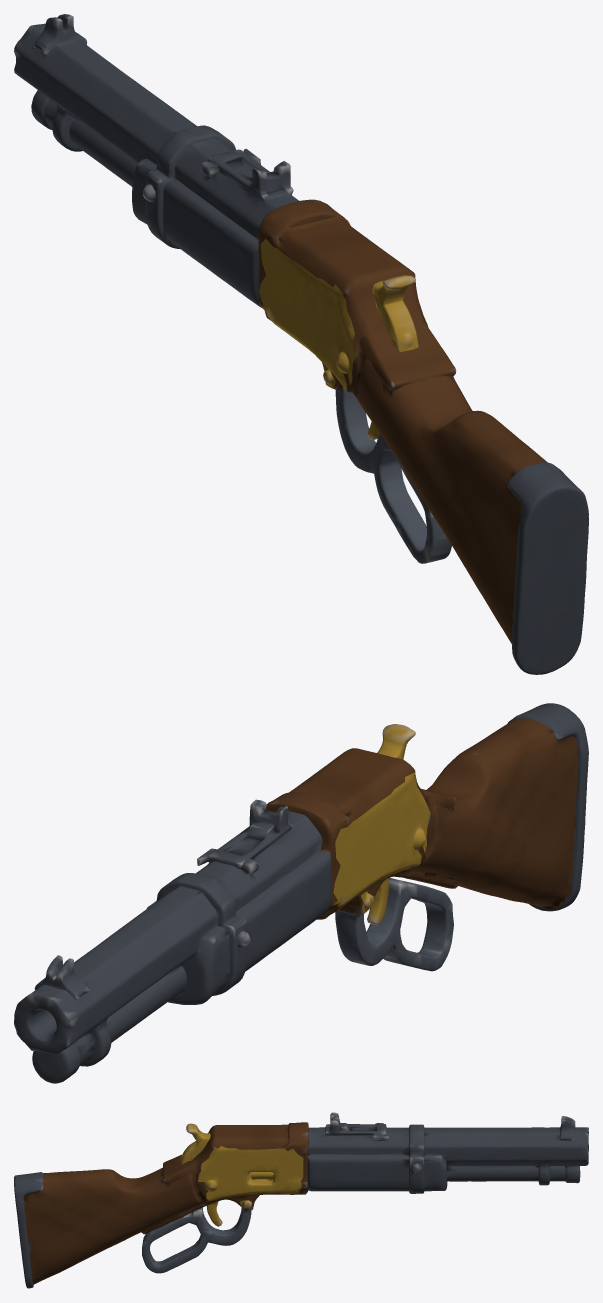
The model's file is verdict.glb.
The picture shows the model from 3 angles, top to bottom: view 1: azimuth 30°, elevation 25°; view 2: azimuth 150°, elevation 25°; view 3: azimuth 270°, elevation 25°; orthographic projection. The views are drawn at different scales.
Visible parts, largest first — view 1: Body, Lever; view 2: Body, Lever; view 3: Body, Lever.
Part boxes in pixels (x1,y1,x2,y2): Body: [14, 14, 588, 674]; Lever: [335, 387, 451, 563]; Body: [14, 703, 588, 1083]; Lever: [335, 877, 453, 971]; Body: [14, 1112, 588, 1288]; Lever: [142, 1207, 251, 1273].
Bounding box in the file's own units: 0.1104 × 0.3103 × 0.95.
